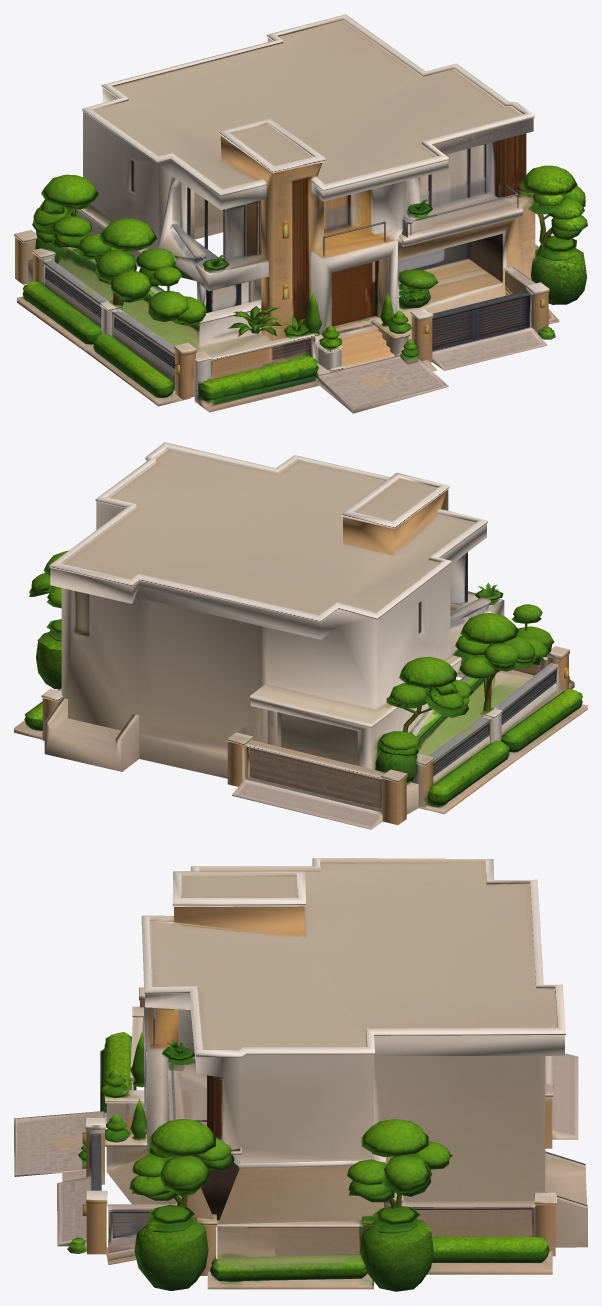
The model's file is modern house.fbx.
3 renders of one model, top to bottom at view 1: azimuth 30°, elevation 25°; view 2: azimuth 150°, elevation 25°; view 3: azimuth 270°, elevation 25°, orthographic. The views are drawn at different scales.
Parts seen in each view (by area): view 1: tripo_node_f38a97e1; view 2: tripo_node_f38a97e1; view 3: tripo_node_f38a97e1.
Boxes of the visible parts, x1,y1,x2,y2 form: tripo_node_f38a97e1: (14,14,587,413); tripo_node_f38a97e1: (14,442,587,829); tripo_node_f38a97e1: (14,858,587,1291).
Size of the model in its own units: 0.9995 by 0.4302 by 0.9146.
